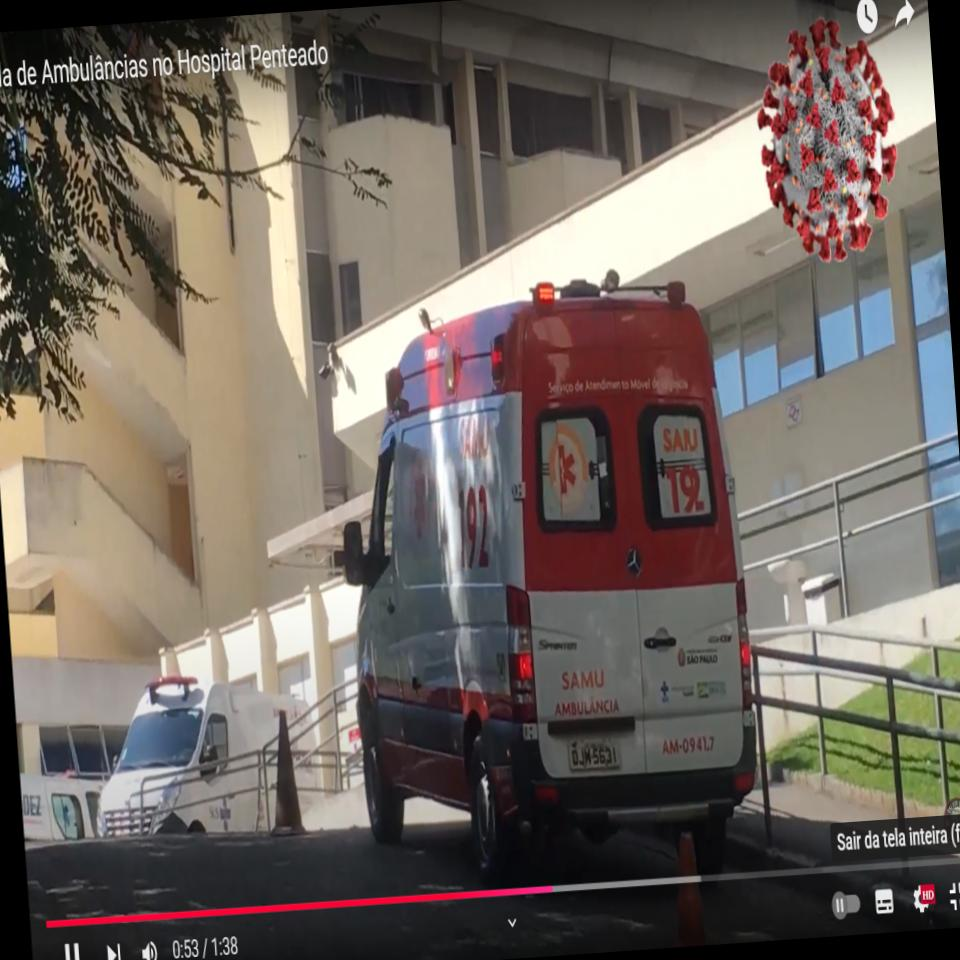bombeiro: (317, 258, 775, 906)
